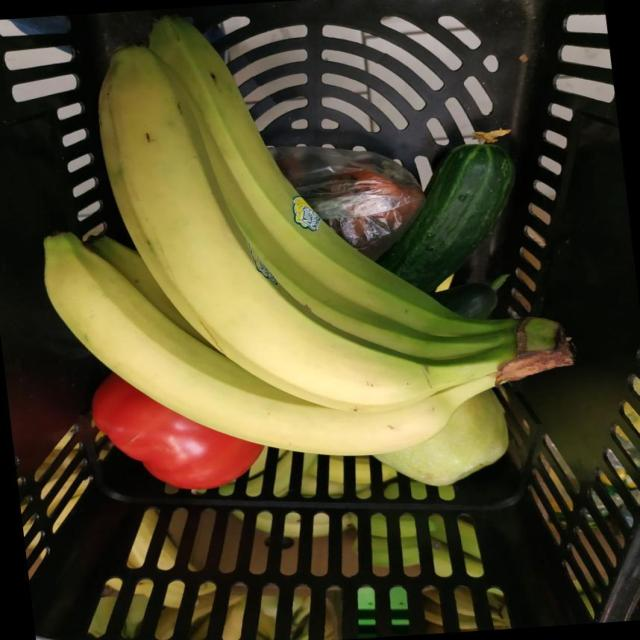Apple: (376, 391, 509, 486)
Banana: (100, 47, 510, 409), (149, 17, 514, 337), (44, 233, 495, 456), (198, 122, 507, 359), (85, 236, 210, 345)
Cucumber: (377, 144, 515, 291), (432, 276, 507, 319)
Tomatoes: (92, 374, 262, 490)
